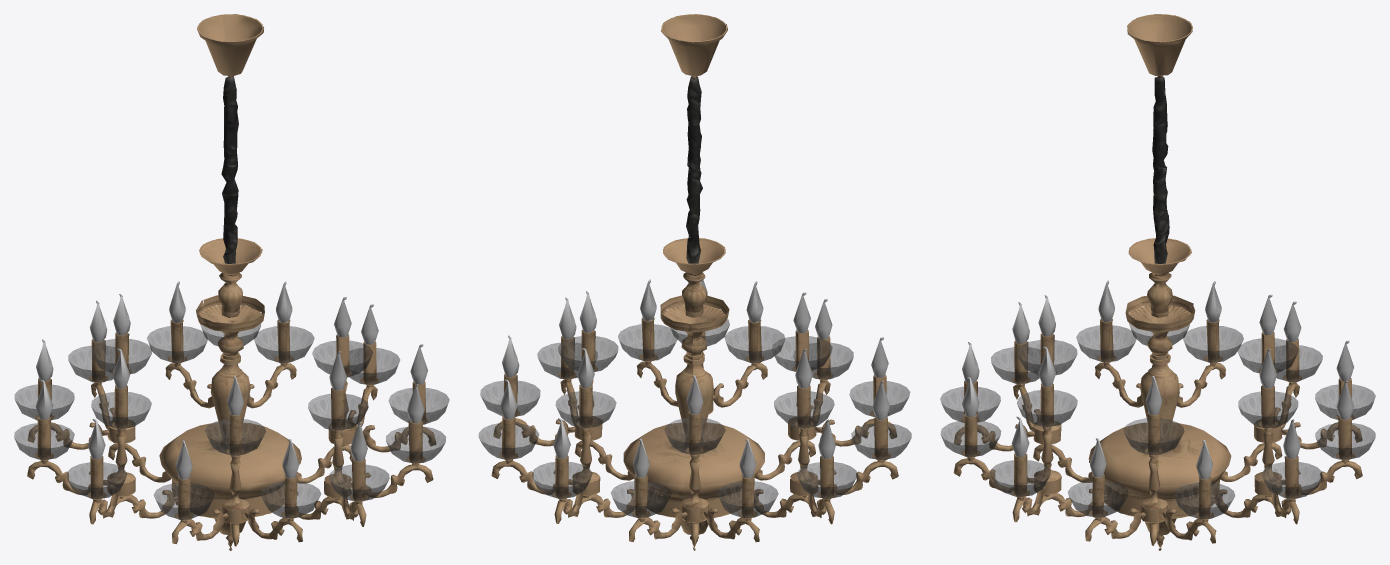
Rendered from Chandelier_03.glb.
The picture shows the model from 3 angles, left to right: view 1: azimuth 30°, elevation 25°; view 2: azimuth 150°, elevation 25°; view 3: azimuth 270°, elevation 25°; orthographic projection.
Visible parts, largest first — view 1: Chandelier_03; view 2: Chandelier_03; view 3: Chandelier_03.
Boxes of the visible parts, x1,y1,x2,y2 form: Chandelier_03: (14,14,449,550); Chandelier_03: (478,14,911,550); Chandelier_03: (940,14,1375,550).
Bounding box in the file's own units: 0.7816 × 1.04 × 0.7867.
2 materials, 2 textured.
